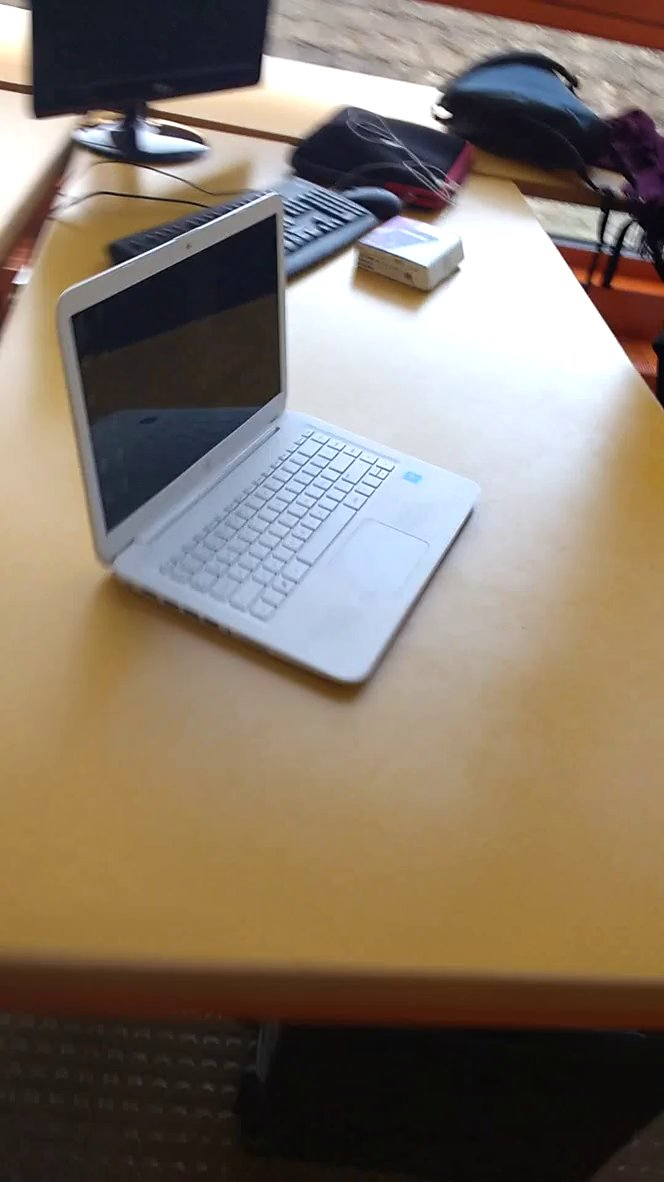laptop: (46, 187, 496, 708)
